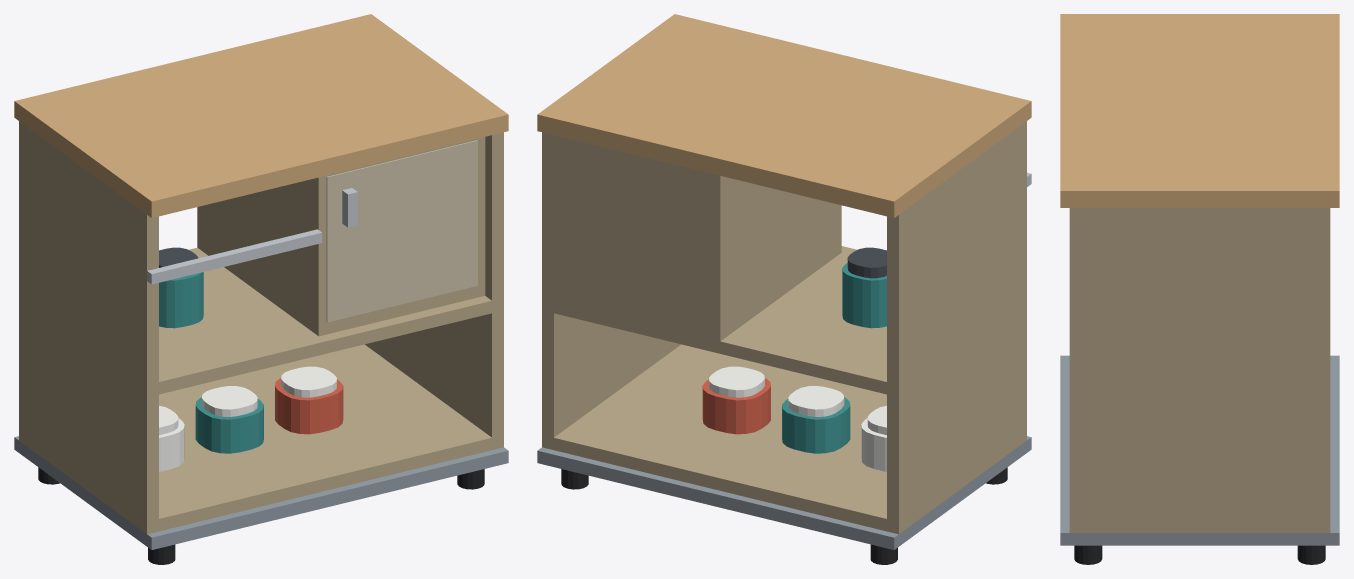
The model's file is rolling_island.glb.
The picture shows the model from 3 angles, left to right: view 1: azimuth 30°, elevation 25°; view 2: azimuth 150°, elevation 25°; view 3: azimuth 270°, elevation 25°; orthographic projection.
Visible parts, largest first — view 1: rolling_island_Body; view 2: rolling_island_Body; view 3: rolling_island_Body.
Boxes of the visible parts, bbox=[...] form: rolling_island_Body: bbox=[14, 14, 508, 564]; rolling_island_Body: bbox=[537, 14, 1031, 564]; rolling_island_Body: bbox=[1060, 14, 1339, 564].
Size of the model in its own units: 0.9 by 0.9 by 0.6.
